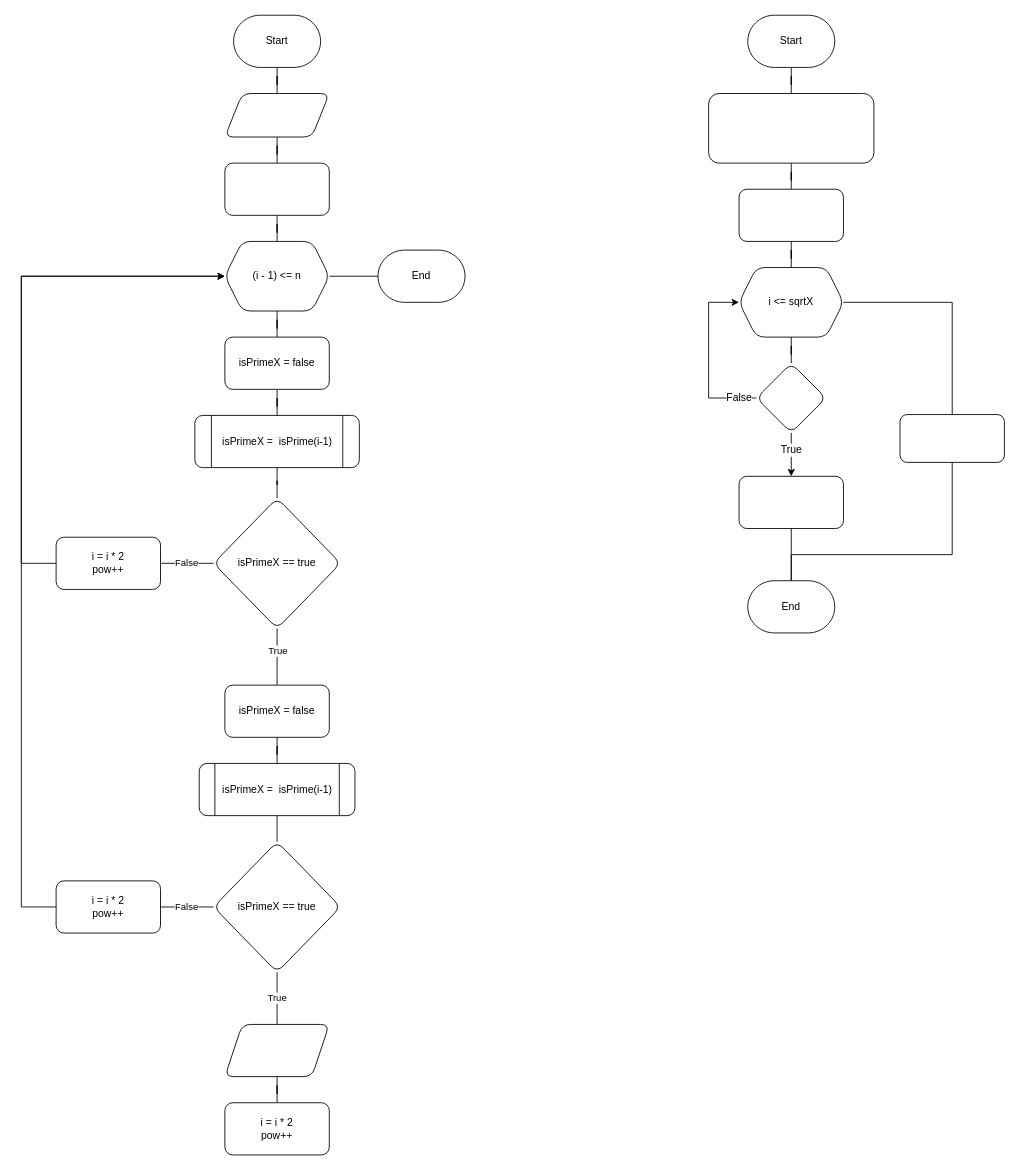
This 1020x1170 diagram has some shape labels left out. The box of each missing label's shape, as (x1, y1, x2, y2) in pixels:
Assigning the square root of the function parameter to the variable sqrtX: (708, 93, 874, 163)
i = 2: (738, 188, 843, 241)
i = 2 pow = 1: (224, 162, 329, 215)
n є N: (224, 93, 329, 137)
Print (i-1): (224, 1024, 329, 1077)
return value false: (738, 475, 843, 529)
return value true: (899, 414, 1004, 462)
x % i == 0: (756, 362, 826, 433)
